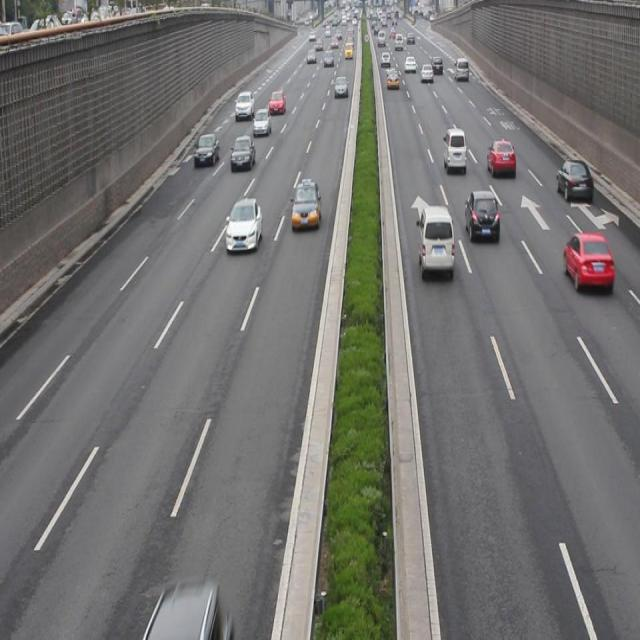car: (562, 230, 612, 294), (224, 197, 262, 251), (464, 189, 499, 244), (556, 158, 592, 204), (290, 180, 321, 230), (486, 137, 514, 178), (193, 132, 220, 169), (230, 134, 256, 172), (252, 107, 270, 136)
truck: (417, 203, 454, 276), (443, 127, 467, 173)
